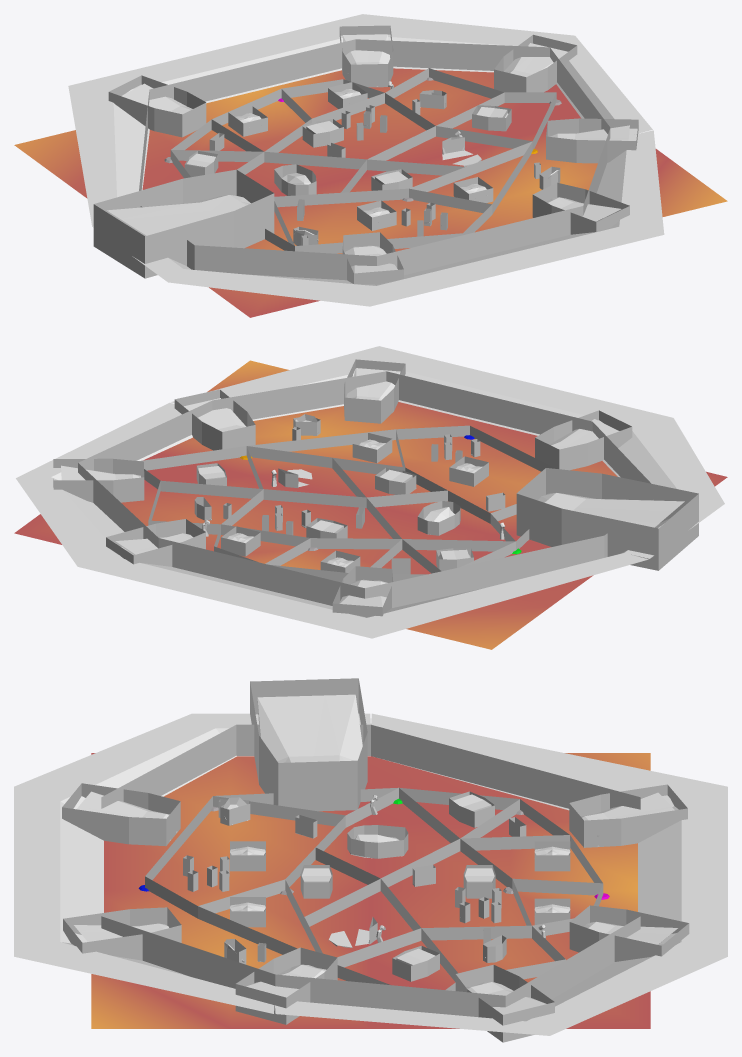
File: Campaign_Sojourner.fbx
3 renders of one model, top to bottom at view 1: azimuth 30°, elevation 25°; view 2: azimuth 150°, elevation 25°; view 3: azimuth 270°, elevation 25°, orthographic. The views are drawn at different scales.
Visible parts, largest first — view 1: GeometryWalls, GeometryGround, Boundary, Pathfinding, DecorBoundary Rock004.010, DecorBoundary Rock004.007, DecorBoundary Rock004.001, Decor Rock001.006, DecorBoundary Rock004.008, DecorBoundary Rock004.006, DecorBoundary Rock004.005, DecorBoundary Rock004.009 (+14 smaller); view 2: GeometryGround, GeometryWalls, Boundary, Pathfinding, DecorBoundary Rock004.010, DecorBoundary Rock004.009, Decor Rock001.006, DecorBoundary Rock004.006, DecorBoundary Rock004.007, DecorBoundary Rock004.005, DecorBoundary Rock004.008, DecorBoundary Rock004.001 (+13 smaller); view 3: GeometryGround, GeometryWalls, Boundary, Pathfinding, DecorBoundary Rock004.010, Decor Rock001.006, DecorBoundary Rock004.009, DecorBoundary Rock004.001, DecorBoundary Rock004.005, DecorBoundary Rock004.008, DecorBoundary Rock004.007, DecorBoundary Rock004.006 (+15 smaller).
Boxes of the visible parts, x1,y1,x2,y2 form: GeometryWalls: (68,14,664,306); GeometryGround: (14,68,727,317); Boundary: (139,39,610,280); Pathfinding: (170,68,556,253); DecorBoundary Rock004.010: (93,169,274,278); DecorBoundary Rock004.007: (546,118,638,163); DecorBoundary Rock004.001: (108,75,206,137); Decor Rock001.006: (107,195,250,236); DecorBoundary Rock004.008: (532,182,629,234); DecorBoundary Rock004.006: (494,34,577,92); DecorBoundary Rock004.005: (339,25,393,87); DecorBoundary Rock004.009: (342,232,403,284); GeometryGround: (14,360,727,649); GeometryWalls: (16,346,724,638); Boundary: (78,371,653,607); Pathfinding: (139,425,556,582); DecorBoundary Rock004.010: (516,468,698,570); DecorBoundary Rock004.009: (535,410,632,470); Decor Rock001.006: (531,492,684,539); DecorBoundary Rock004.006: (53,458,144,502); DecorBoundary Rock004.007: (174,389,255,450); DecorBoundary Rock004.005: (106,519,205,566); DecorBoundary Rock004.008: (344,359,405,423); DecorBoundary Rock004.001: (332,566,393,617); GeometryGround: (91,753,650,1028); GeometryWalls: (14,713,727,1035); Boundary: (101,724,640,1017); Pathfinding: (145,787,603,990); DecorBoundary Rock004.010: (250,678,367,811); Decor Rock001.006: (257,694,362,762); DecorBoundary Rock004.009: (62,783,180,846); DecorBoundary Rock004.001: (569,784,687,847); DecorBoundary Rock004.005: (569,905,689,961); DecorBoundary Rock004.008: (63,907,181,960); DecorBoundary Rock004.007: (235,947,337,1024); DecorBoundary Rock004.006: (455,964,554,1042).
Size of the model in its own units: 22080 by 1969 by 20512.
